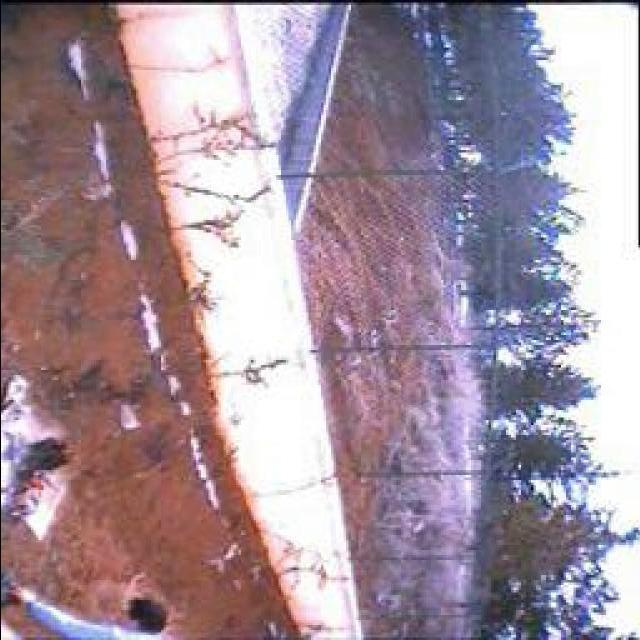Fire: (16, 450, 54, 498)
